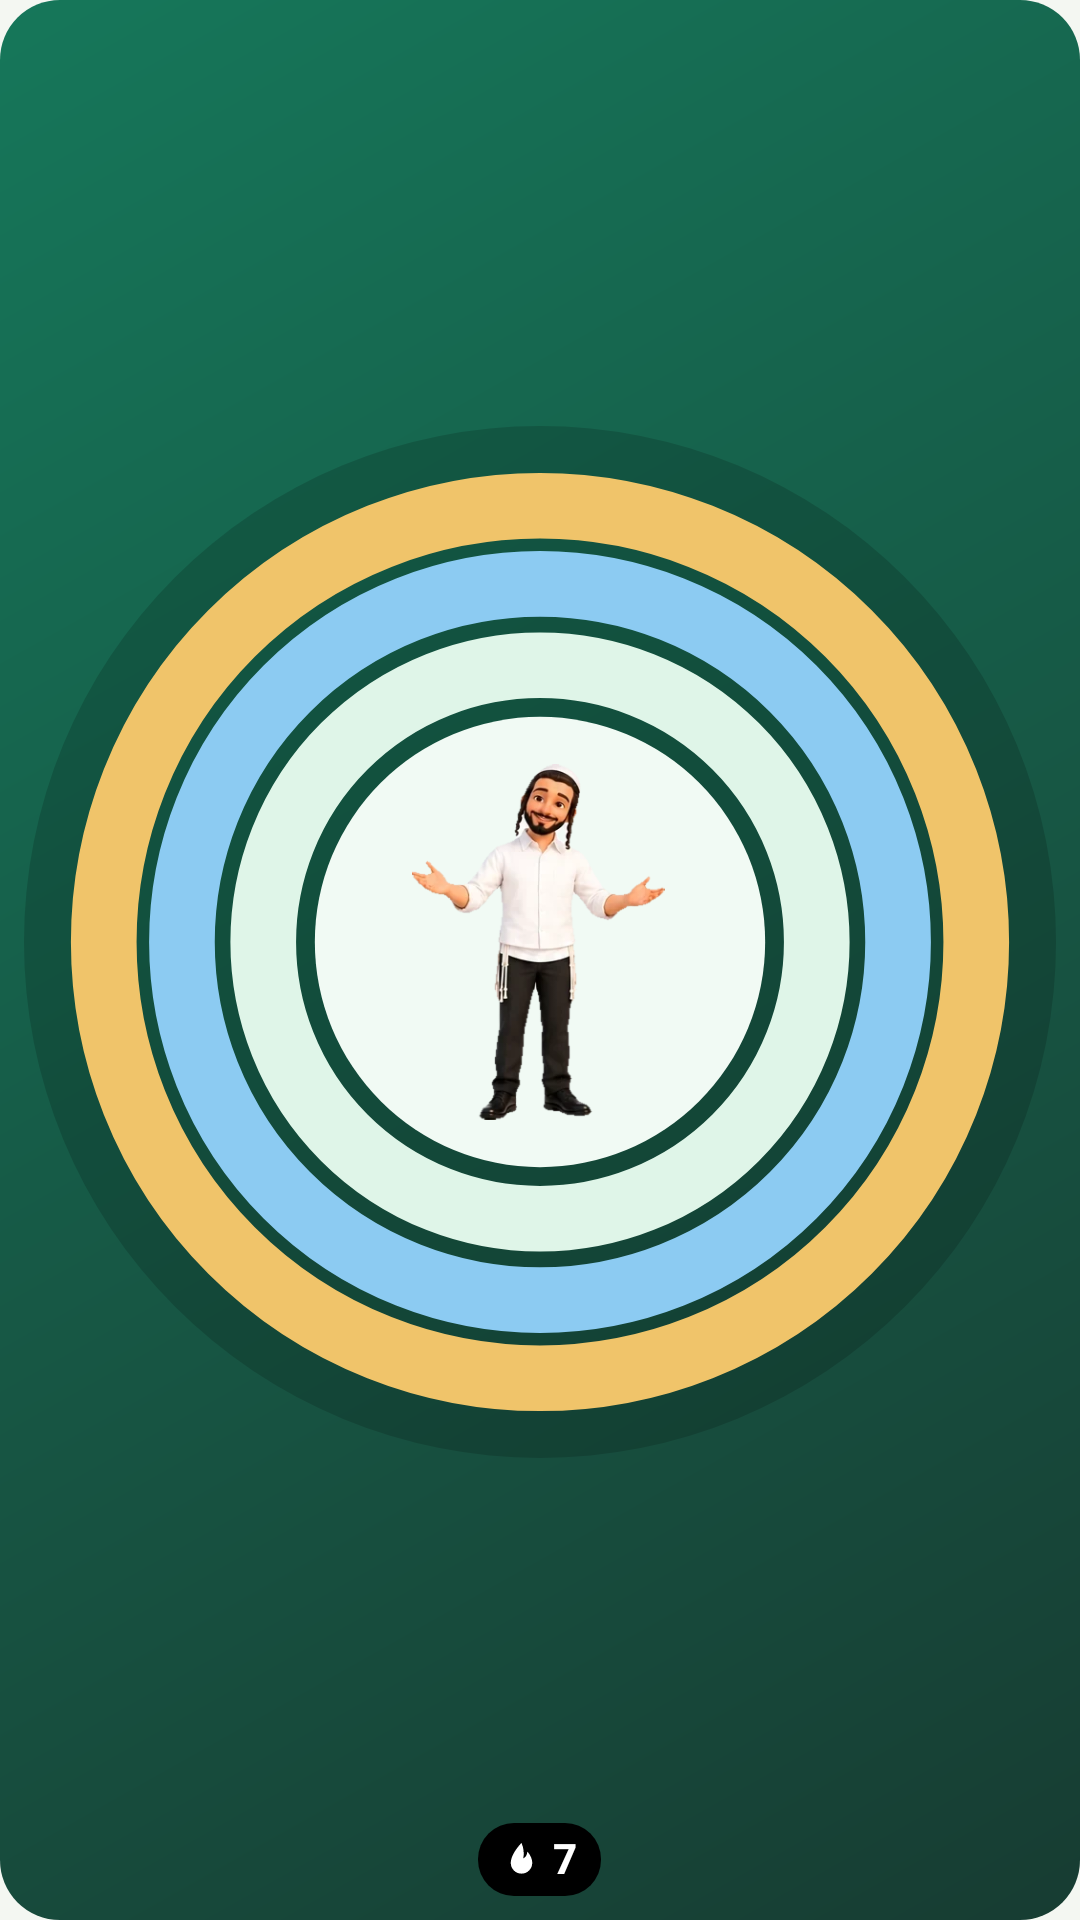

Point at icon controls on the screen. Image size 1080*1920, points as (x,y).
widget flame: (521,1858)
